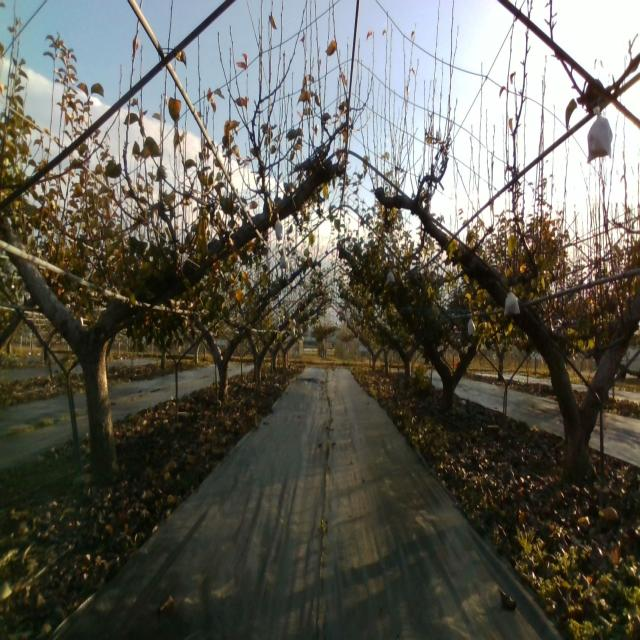pearbags: (586, 106, 612, 163), (503, 286, 520, 317)
